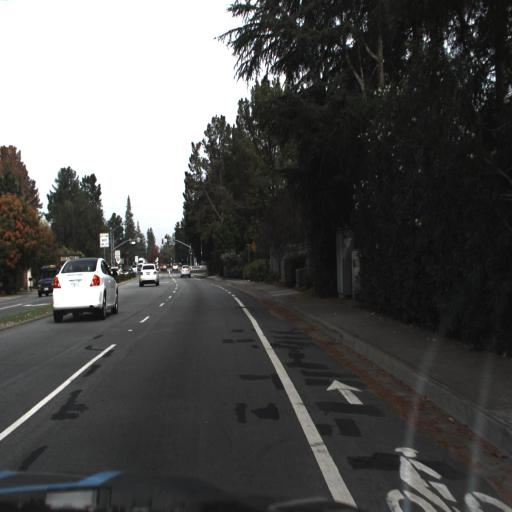car: (46, 247, 124, 325), (138, 261, 162, 290), (176, 257, 194, 282)
